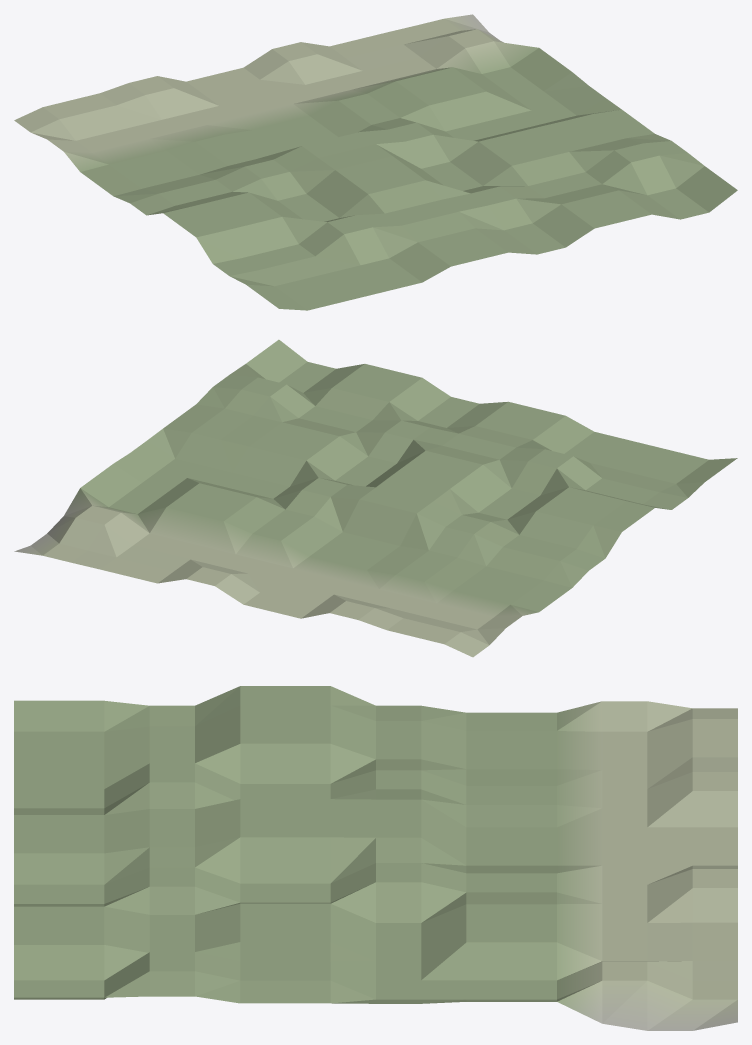
The picture shows the model from 3 angles, top to bottom: view 1: azimuth 30°, elevation 25°; view 2: azimuth 150°, elevation 25°; view 3: azimuth 270°, elevation 25°; orthographic projection. The views are drawn at different scales.
Bounding box in the file's own units: 32 × 1.98 × 32.
